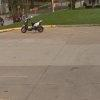Motorcycle: (8, 10, 52, 40)
